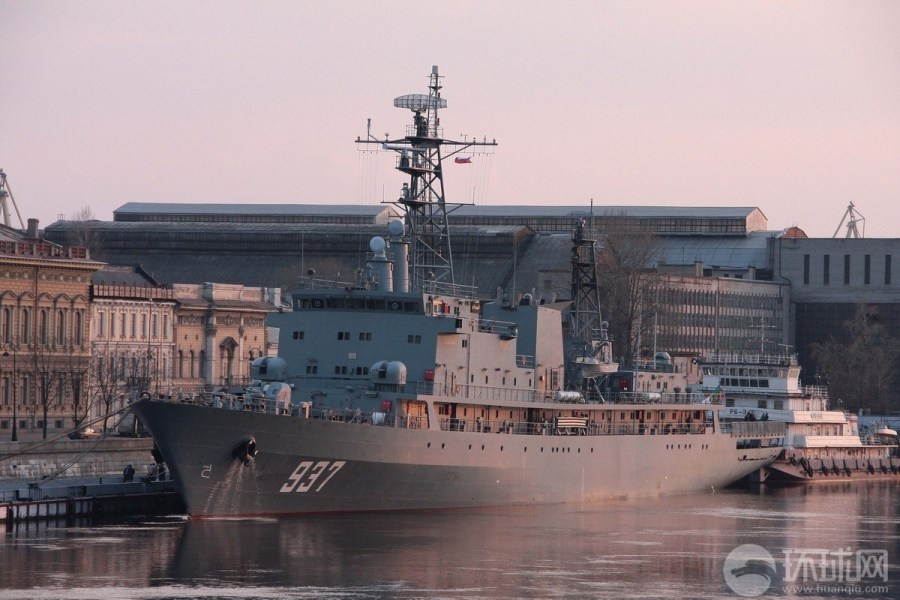warship: (125, 72, 785, 530)
